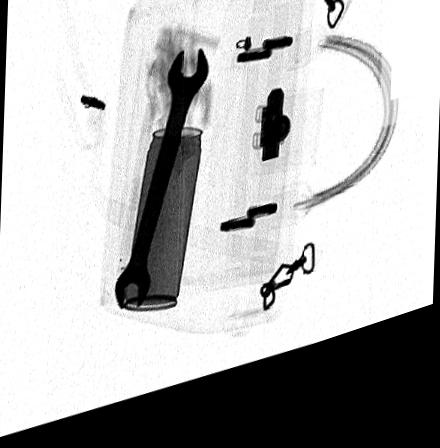Wrench: (113, 59, 207, 321)
